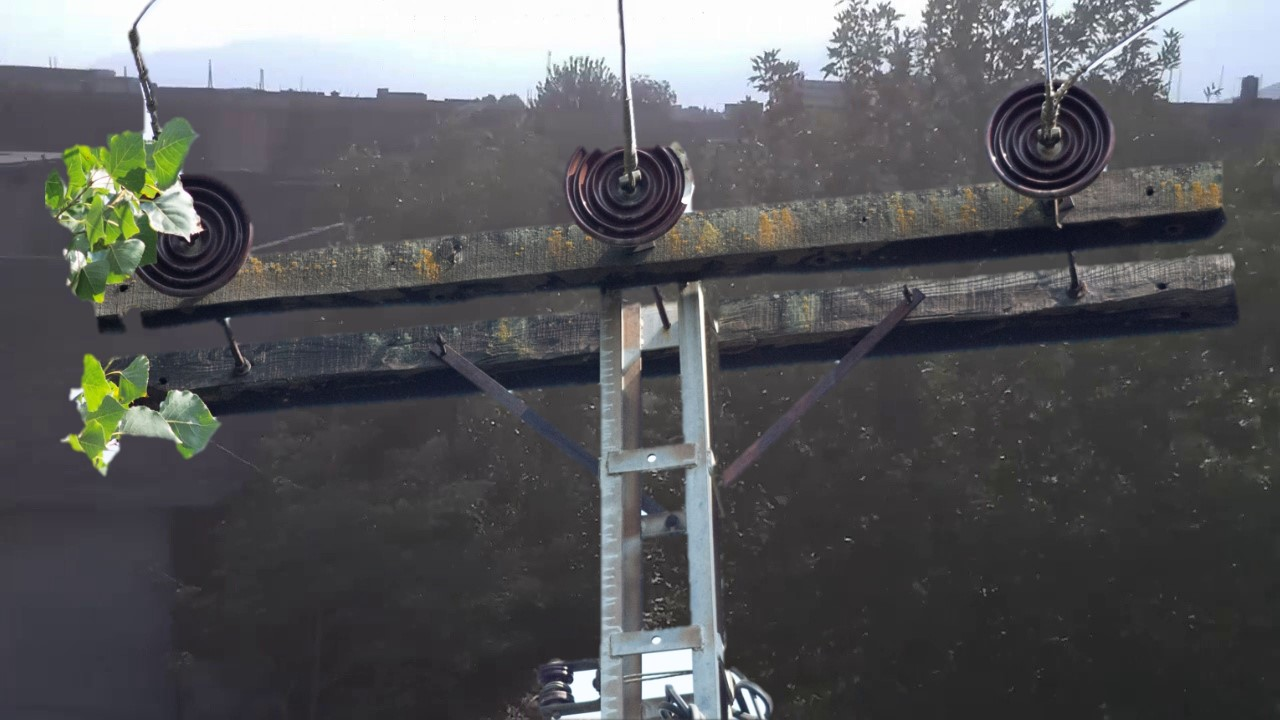defect_disc: (560, 139, 703, 251)
insulator_disc: (983, 80, 1118, 198), (150, 168, 261, 302)
